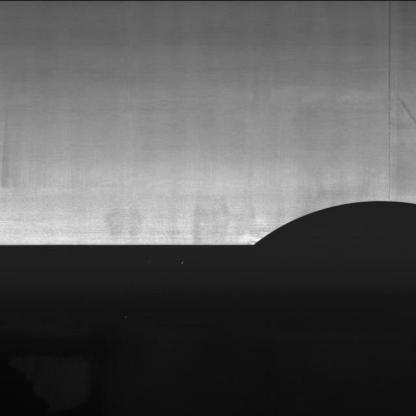crescent_gap: (247, 193, 415, 260)
welding_line: (366, 1, 398, 204)
